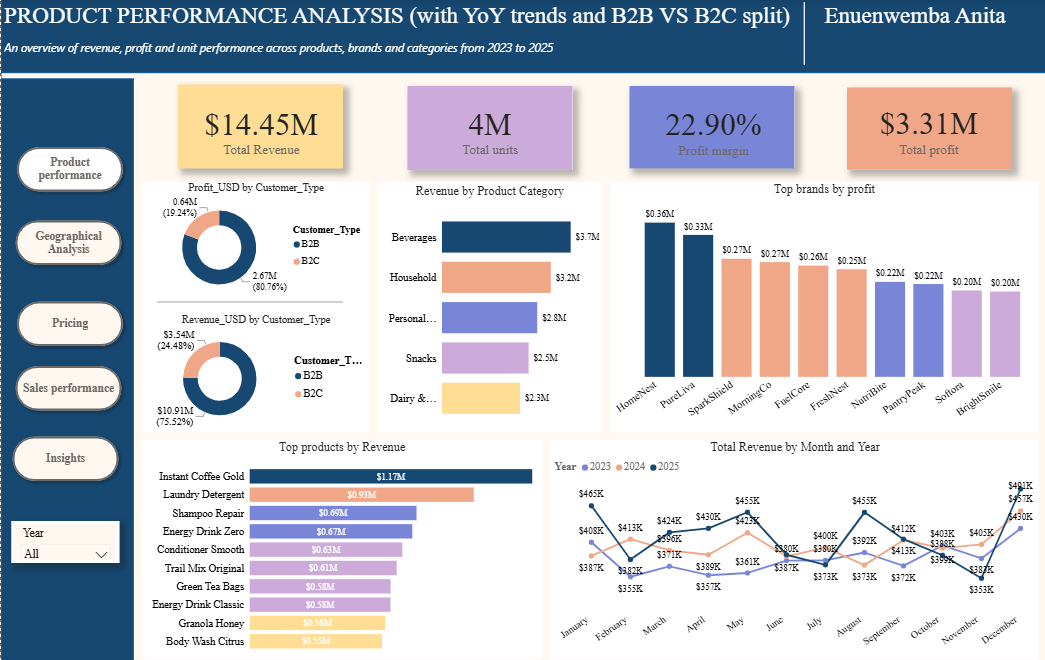

What the dashboard file says about the page in this screenshot:
{"tool":"powerbi","page":{"name":"Product performance","canvas":[1700,1080],"ordinal":0},"visuals":[{"type":"shape","box":[0,0,1700.2,1080.8],"z":0},{"type":"shape","box":[0,128.7,215,952.1],"z":1000},{"type":"shape","box":[286.6,138.4,267.2,136],"z":2000},{"type":"shape","box":[658.2,140.9,267.2,136],"z":3000},{"type":"shape","box":[1017.7,140.9,267.2,133.6],"z":4000},{"type":"shape","box":[1369.9,143.3,267.2,133.6],"z":5000},{"type":"shape","box":[0,0,1700.2,120],"z":6000},{"type":"shape","box":[889,714.1,791.8,354.6],"z":7000},{"type":"shape","box":[228.3,714.1,648.5,354.6],"z":8000},{"type":"shape","box":[986.1,296.3,694.6,405.6],"z":9000},{"type":"shape","box":[609.6,296.3,364.3,405.6],"z":10000},{"type":"shape","box":[228.3,296.3,369.2,405.6],"z":11000},{"type":"barChart","title":"Revenue by Product Category","fields":{"Y":["Sheet1.Total Revenue"],"Category":["Sheet1.Product_Category"]},"box":[609.6,298.7,364.3,405.6],"z":12000},{"type":"columnChart","title":"Top brands by profit","fields":{"Y":["Sheet1.Total profit"],"Category":["Sheet1.Brand"]},"box":[986.1,296.3,694.6,403.2],"z":13000},{"type":"lineChart","fields":{"Y":["Sheet1.Total Revenue"],"Category":["Sheet1.Order_Date.Variation.Date Hierarchy.Month"],"Series":["Sheet1.Year"]},"box":[891.4,714.1,789.4,354.6],"z":14000},{"type":"clusteredBarChart","title":"Top products by Revenue","fields":{"Category":["Sheet1.Product_Name"],"Y":["Sheet1.Total Revenue"]},"box":[228.3,714.1,648.5,354.6],"z":15000},{"type":"card","fields":{"Values":["Sheet1.Total Revenue"]},"box":[289,143.3,264.7,133.6],"z":16000},{"type":"textbox","box":[0,0,1680.8,119],"z":17000},{"type":"card","fields":{"Values":["Sheet1.Total profit"]},"box":[1367.4,140.9,269.6,136],"z":18000},{"type":"card","fields":{"Values":["Sheet1.Total units"]},"box":[658.2,143.3,267.2,133.6],"z":19000},{"type":"card","fields":{"Values":["Sheet1.Profit margin"]},"box":[1020.1,143.3,267.2,136],"z":20000},{"type":"slicer","fields":{"Values":["Sheet1.Year"]},"box":[17,845.2,174.9,68],"z":21000},{"type":"donutChart","title":"Revenue_USD by Customer_Type","fields":{"Category":["Sheet1.Customer_Type"],"Y":["Sum(Sheet1.Net_Revenue_USD)"]},"box":[228.3,510.1,369.2,189.4],"z":22000},{"type":"donutChart","title":"Profit_USD by Customer_Type","fields":{"Category":["Sheet1.Customer_Type"],"Y":["Sum(Sheet1.Profit_USD)"]},"box":[228.3,296.3,369.2,191.9],"z":23000},{"type":"shape","box":[252.6,480.9,301.2,19.4],"z":24000},{"type":"actionButton","box":[17,230.7,189.4,89.9],"z":25000},{"type":"actionButton","box":[14.6,349.8,189.4,89.9],"z":26000},{"type":"actionButton","box":[17,480.9,189.4,89.9],"z":27000},{"type":"actionButton","box":[14.6,585.4,189.4,89.9],"z":28000},{"type":"actionButton","box":[9.7,699.5,189.4,89.9],"z":29000},{"type":"shape","box":[1267.9,4.9,65.6,102],"z":30000}]}

Visuals, with their boxes in screenshot pixels (x1, y1, x2, y2), scaled from the page's 1700x1080 canvas onto the 1045x660 screenshot:
shape: locate(0, 0, 1044, 659)
shape: locate(0, 79, 132, 659)
shape: locate(176, 85, 340, 168)
shape: locate(405, 86, 569, 169)
shape: locate(626, 86, 790, 168)
shape: locate(842, 88, 1006, 169)
shape: locate(0, 0, 1044, 73)
shape: locate(546, 436, 1033, 653)
shape: locate(140, 436, 539, 653)
shape: locate(606, 181, 1033, 429)
shape: locate(375, 181, 599, 429)
shape: locate(140, 181, 367, 429)
"Revenue by Product Category" barChart: locate(375, 183, 599, 430)
"Top brands by profit" columnChart: locate(606, 181, 1033, 427)
lineChart - Sheet1.Total Revenue x Sheet1.Order_Date.Variation.Date Hierarchy.Month: locate(548, 436, 1033, 653)
"Top products by Revenue" clusteredBarChart: locate(140, 436, 539, 653)
card - Sheet1.Total Revenue: locate(178, 88, 340, 169)
textbox: locate(0, 0, 1033, 73)
card - Sheet1.Total profit: locate(841, 86, 1006, 169)
card - Sheet1.Total units: locate(405, 88, 569, 169)
card - Sheet1.Profit margin: locate(627, 88, 791, 171)
slicer - Sheet1.Year: locate(10, 517, 118, 558)
"Revenue_USD by Customer_Type" donutChart: locate(140, 312, 367, 427)
"Profit_USD by Customer_Type" donutChart: locate(140, 181, 367, 298)
shape: locate(155, 294, 340, 306)
actionButton: locate(10, 141, 127, 196)
actionButton: locate(9, 214, 125, 269)
actionButton: locate(10, 294, 127, 349)
actionButton: locate(9, 358, 125, 413)
actionButton: locate(6, 427, 122, 482)
shape: locate(779, 3, 820, 65)
